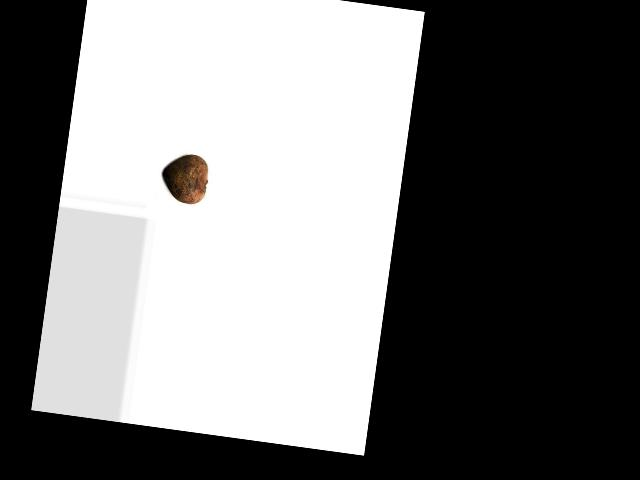beet: (159, 150, 210, 206)
